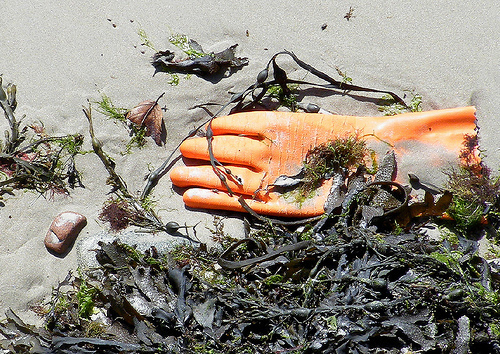litter: (167, 105, 494, 219)
